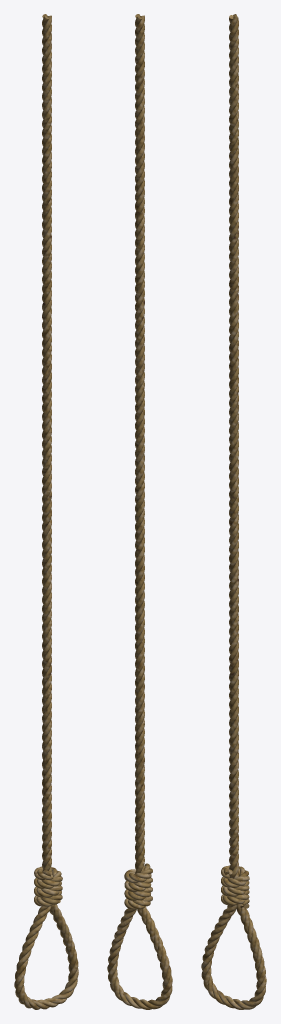
File: hangmans_rope.glb
3 views of the same model, side by side, from view 1: azimuth 30°, elevation 25°; view 2: azimuth 150°, elevation 25°; view 3: azimuth 330°, elevation 25° (orthographic).
Parts seen in each view (by area): view 1: Object_8, Object_6, Object_4, Object_5, Object_7, Object_3; view 2: Object_8, Object_6, Object_4, Object_5, Object_3, Object_7; view 3: Object_8, Object_6, Object_4, Object_5, Object_3, Object_7.
Part boxes in pixels (bbox=[...]): Object_8: bbox=[15, 15, 78, 1009]; Object_6: bbox=[15, 16, 78, 1009]; Object_4: bbox=[14, 16, 77, 1008]; Object_5: bbox=[34, 867, 62, 906]; Object_7: bbox=[34, 867, 62, 906]; Object_3: bbox=[34, 866, 62, 904]; Object_8: bbox=[107, 16, 172, 1009]; Object_6: bbox=[108, 17, 171, 1008]; Object_4: bbox=[108, 15, 172, 1009]; Object_5: bbox=[124, 868, 152, 909]; Object_3: bbox=[124, 863, 152, 909]; Object_7: bbox=[124, 866, 152, 906]; Object_8: bbox=[201, 16, 266, 1009]; Object_6: bbox=[202, 14, 265, 1008]; Object_4: bbox=[201, 17, 265, 1009]; Object_5: bbox=[221, 866, 249, 905]; Object_3: bbox=[221, 866, 249, 906]; Object_7: bbox=[221, 865, 249, 908].
Size of the model in its own units: 21.05 by 314 by 8.35.
Materials: 1 (1 with a texture image).
